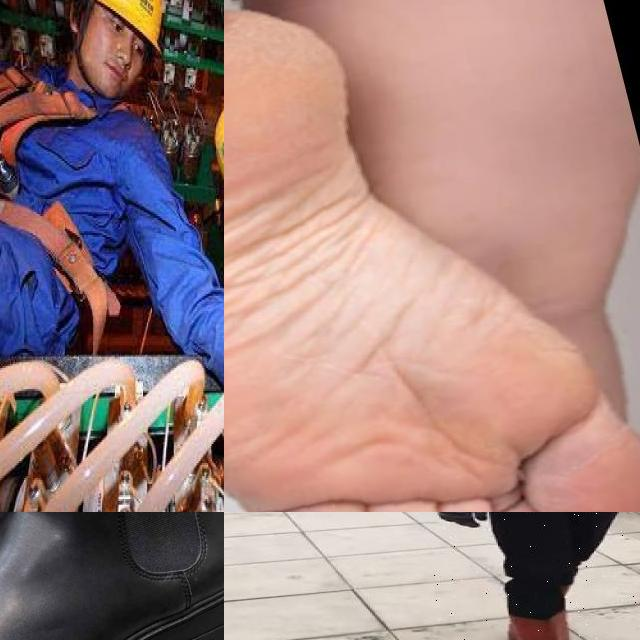Barefoots: (224, 0, 640, 512)
Harness: (0, 68, 118, 354)
Sandals: (0, 512, 224, 640)
boots: (508, 612, 604, 640), (555, 584, 571, 606)
person: (425, 512, 640, 640)
